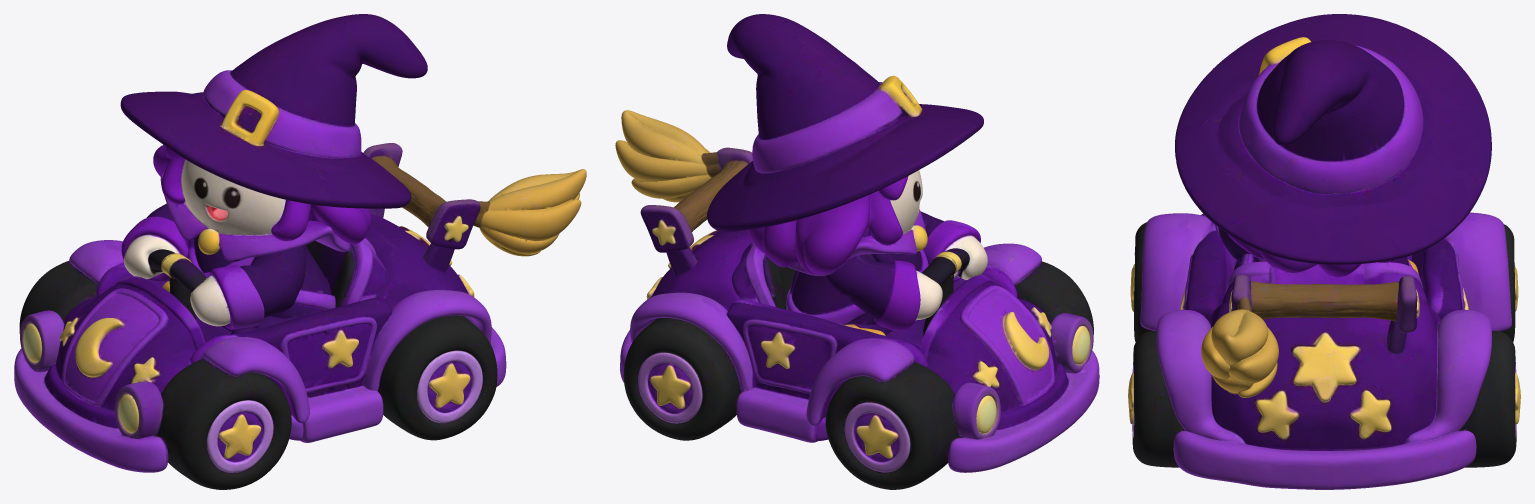
The model's file is witch.glb.
The picture shows the model from 3 angles, left to right: view 1: azimuth 30°, elevation 25°; view 2: azimuth 150°, elevation 25°; view 3: azimuth 270°, elevation 25°; orthographic projection. The views are drawn at different scales.
Size of the model in its own units: 1.9 by 1.35 by 1.22.
1 material, 1 textured.
